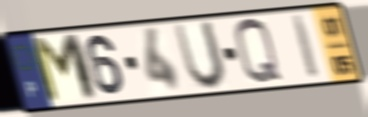4: (142, 24, 182, 97)
6: (85, 33, 126, 98)
I: (290, 13, 323, 82)
M: (28, 31, 102, 107)
Q: (232, 16, 287, 88)
U: (171, 18, 229, 93)
